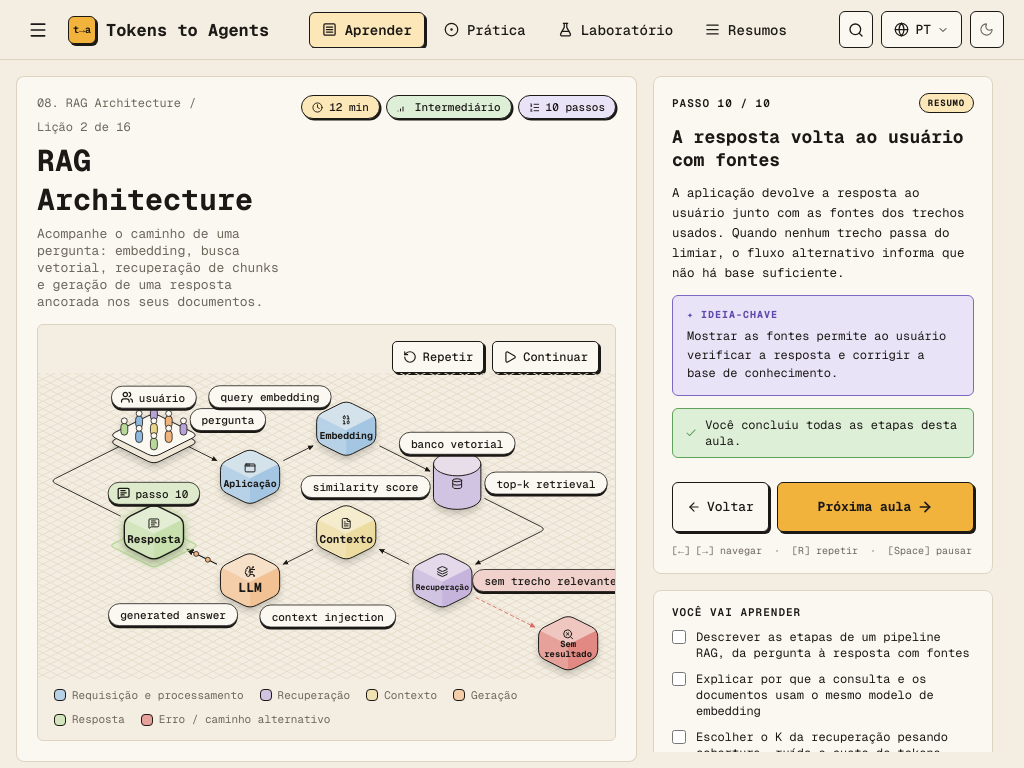
Test: App › no último passo, Próximo vira Próxima aula e leva à aula seguinte do roadmap (LES-01.5)
Expected: the heading "RAG Architecture" is shown, [37, 141, 285, 219]
Expected: the button "Próximo:" is not shown
What coordinates should you click on to do the following:
click the button "Próxima aula"
I would click on:
 (875, 507)
Its box is [777, 482, 974, 532].
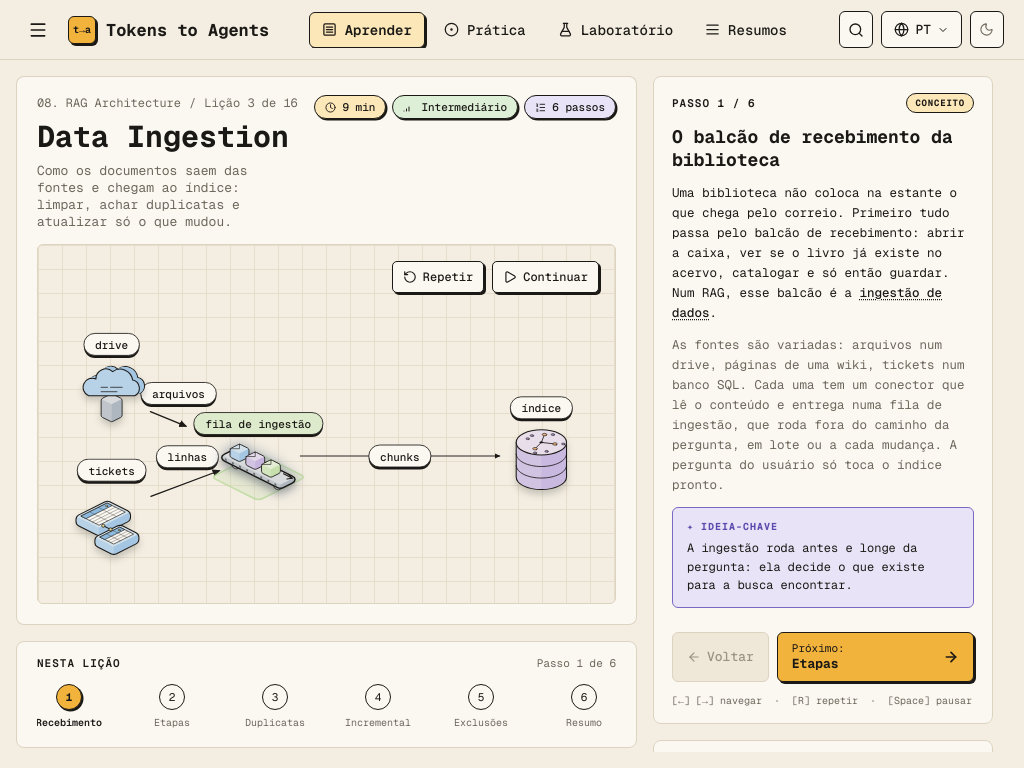
Now the heading "Data Ingestion" is shown, box [37, 117, 298, 156]
